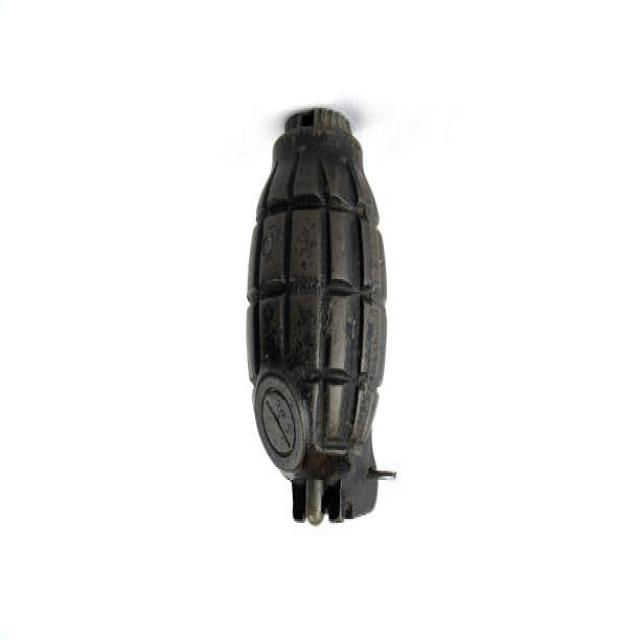grenade: (241, 93, 400, 545)
